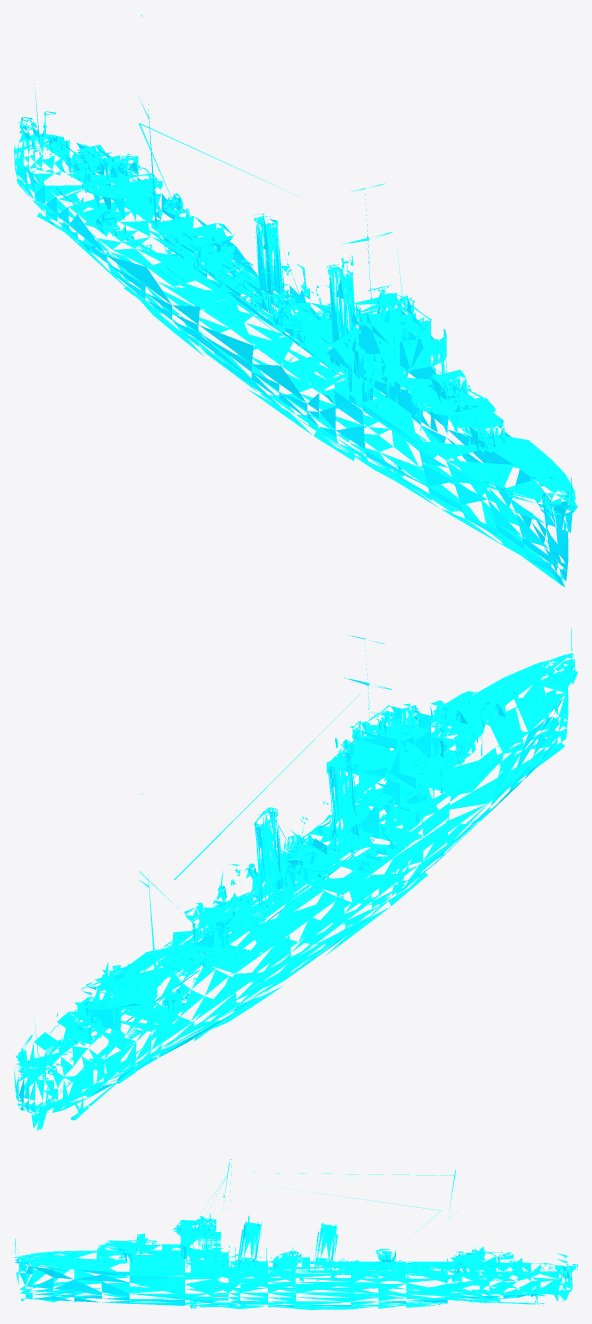
The model's file is Anthony_Event.glb.
3 renders of one model, top to bottom at view 1: azimuth 30°, elevation 25°; view 2: azimuth 150°, elevation 25°; view 3: azimuth 270°, elevation 25°, orthographic. The views are drawn at different scales.
Size of the model in its own units: 0.6519 by 1.93 by 6.62.
